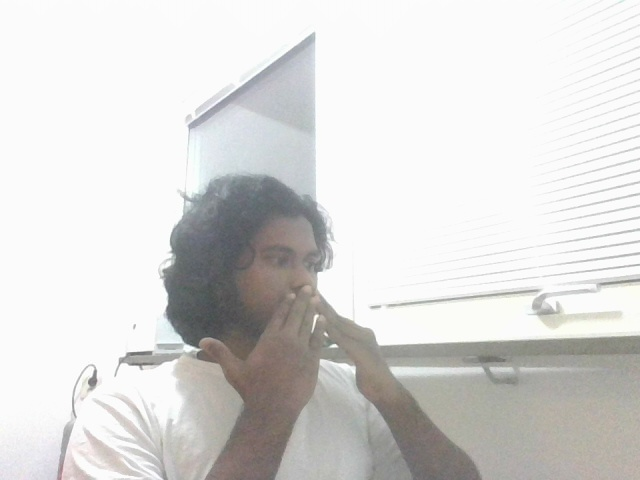Thanks: (188, 279, 418, 427)
